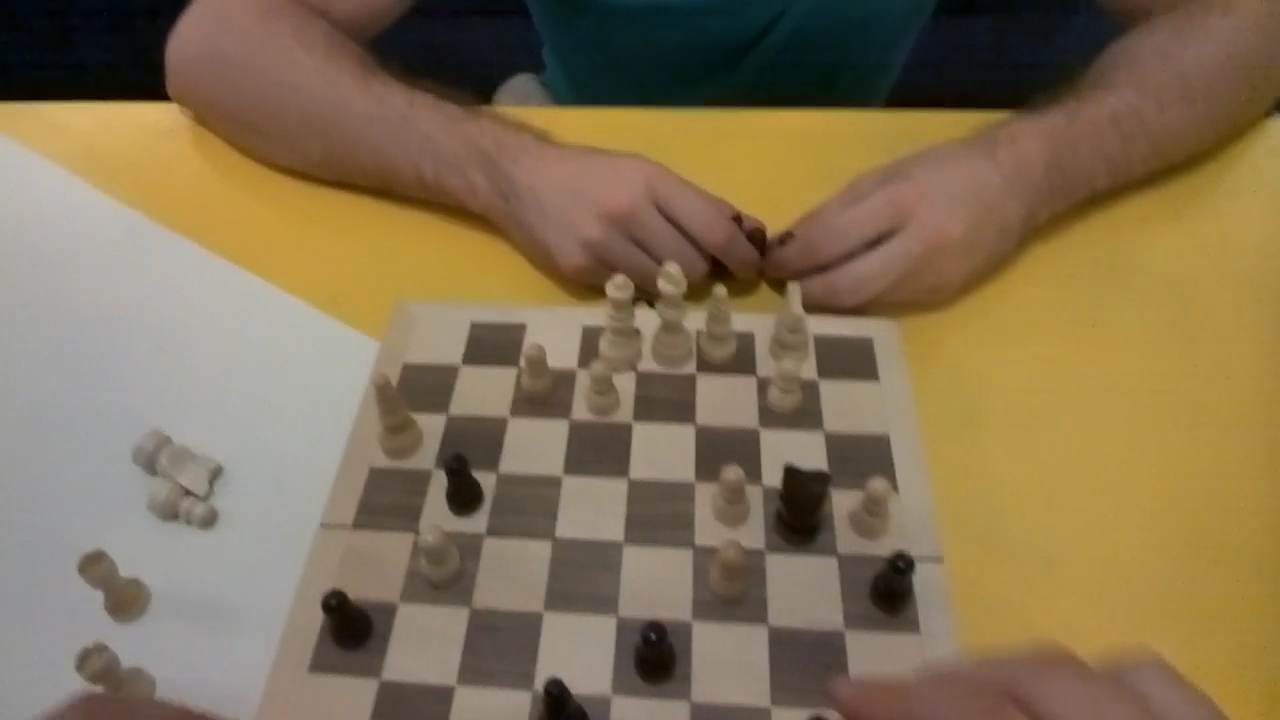hand: (761, 130, 1033, 303), (496, 146, 756, 287), (834, 651, 1222, 713), (60, 697, 191, 717)
